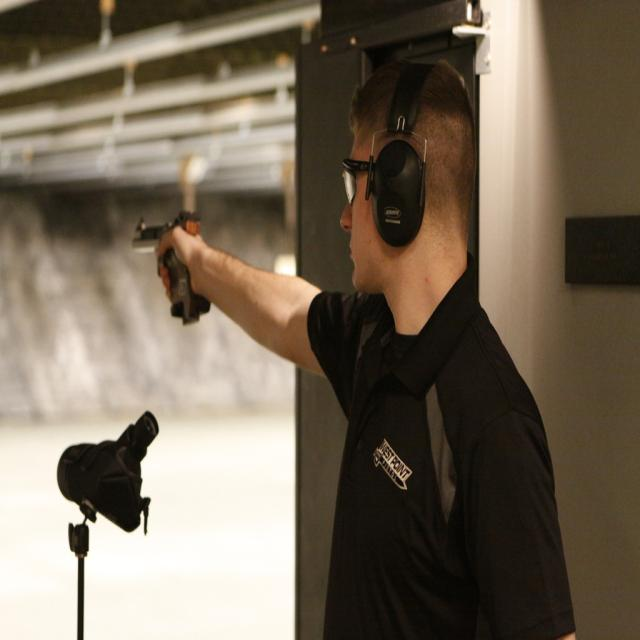Weapon: (119, 189, 237, 356)
